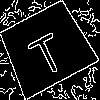T: (22, 23, 69, 79)
